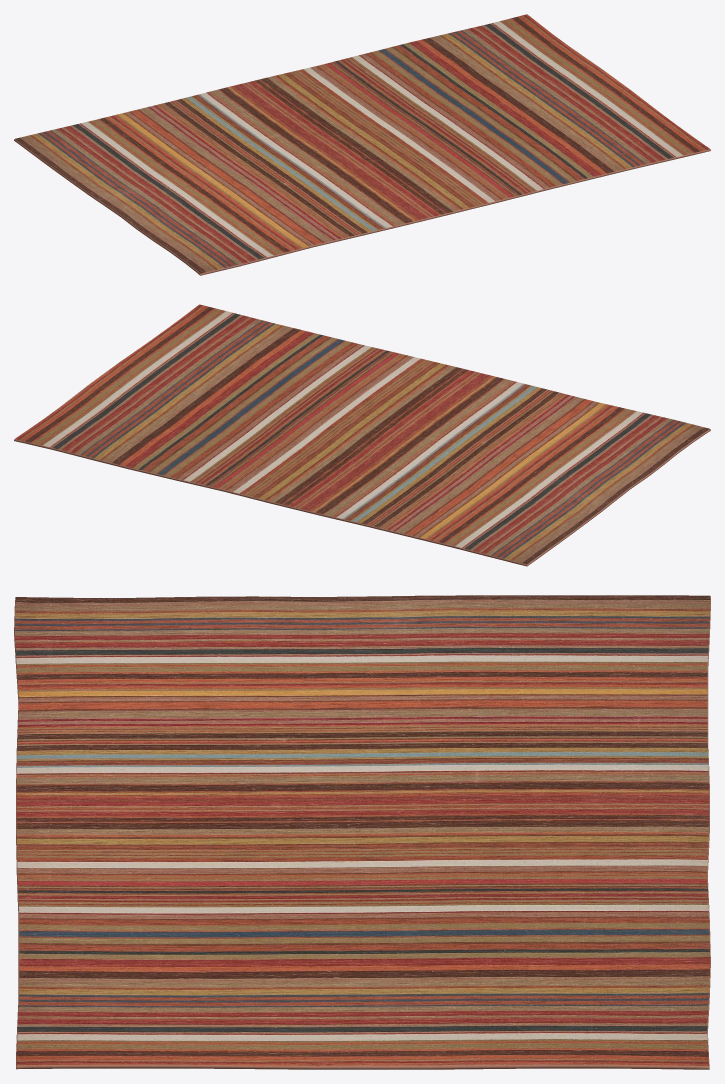
File: abo-B0735SK5LP.glb
3 views of the same model, one above another, from view 1: azimuth 30°, elevation 25°; view 2: azimuth 150°, elevation 25°; view 3: azimuth 270°, elevation 25° (orthographic). The views are drawn at different scales.
Size of the model in its own units: 2.44 by 0.00997 by 1.52.
Materials: 1 (1 with a texture image).
